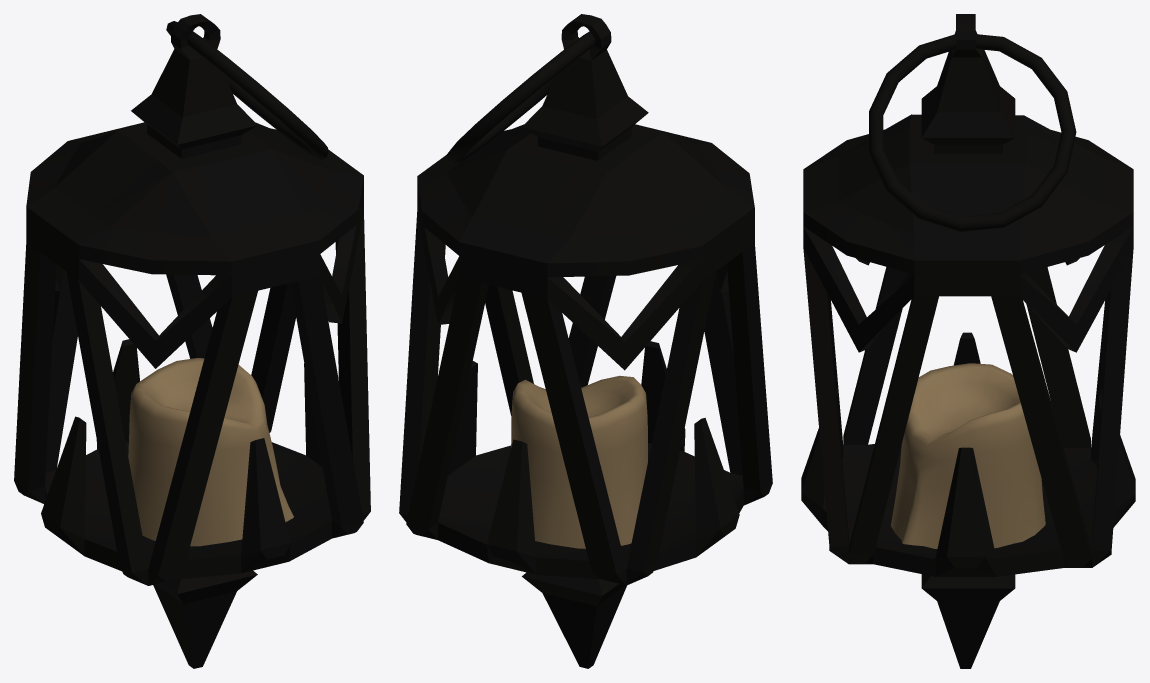
Rendered from revenant_lantern_standing_01.fbx.
3 views of the same model, side by side, from view 1: azimuth 30°, elevation 25°; view 2: azimuth 150°, elevation 25°; view 3: azimuth 270°, elevation 25° (orthographic).
Parts seen in each view (by area): view 1: lantern_standing, candle, lantern_link_free; view 2: lantern_standing, candle, lantern_link_free; view 3: lantern_standing, candle, lantern_link_free.
Part boxes in pixels (x1,y1,x2,y2): lantern_standing: [14, 14, 370, 668]; candle: [128, 358, 293, 546]; lantern_link_free: [166, 21, 328, 159]; lantern_standing: [399, 14, 772, 668]; candle: [511, 375, 647, 548]; lantern_link_free: [446, 31, 595, 163]; lantern_standing: [801, 14, 1135, 668]; candle: [891, 363, 1045, 548]; lantern_link_free: [869, 34, 1076, 231].
Size of the model in its own units: 17.21 by 36.86 by 17.21.
